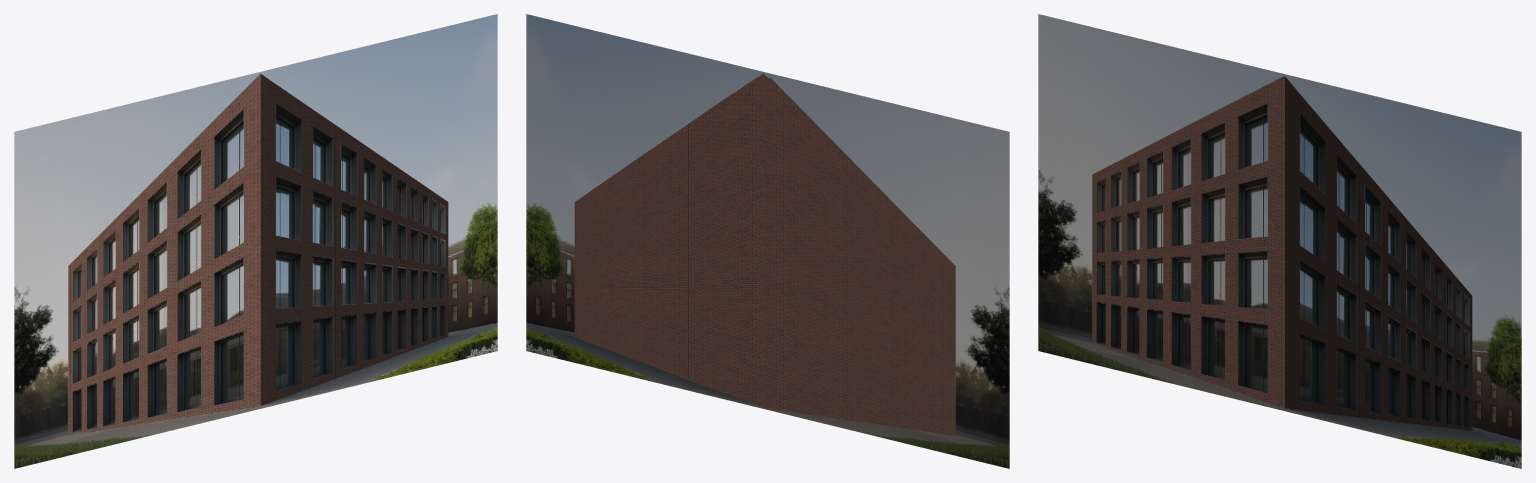
File: place-otel.glb
3 renders of one model, left to right at view 1: azimuth 30°, elevation 25°; view 2: azimuth 150°, elevation 25°; view 3: azimuth 330°, elevation 25°, orthographic.
Parts seen in each view (by area): view 1: Plane.002; view 2: Plane.002; view 3: Plane.002.
Part boxes in pixels (x1,y1,x2,y2): Plane.002: [14, 14, 497, 468]; Plane.002: [526, 14, 1009, 468]; Plane.002: [1038, 14, 1521, 468].
Size of the model in its own units: 1.5 by 0.9999 by 0.00143.
3 materials, 2 textured.
